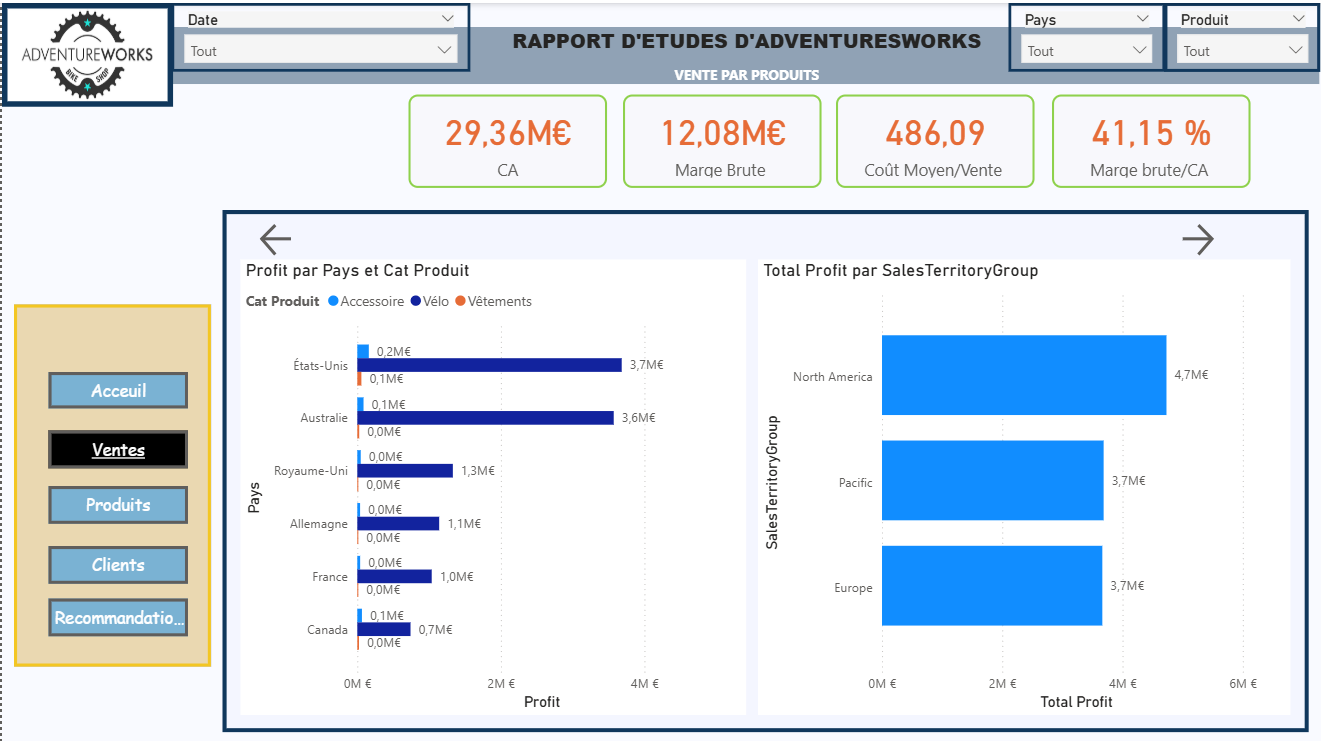

The dashboard page shown, as its layout file describes it:
{"tool":"powerbi","page":{"name":"Ventes","canvas":[1280,720],"ordinal":3},"visuals":[{"type":"image","box":[0,0,165.9,100.4],"z":0},{"type":"shape","box":[213.7,200.8,1054.1,506.8],"z":1000},{"type":"textbox","title":"RAPPORT D''ETUDES D''ADVENTURESWORKS ","box":[165.9,23.3,1113.5,55.3],"z":2000},{"type":"shape","box":[11.3,293.1,191.1,351.4],"z":2000,"group":"g1"},{"type":"slicer","fields":{"Values":["DimGeography.City"]},"box":[1128.6,0,152.2,66.4],"z":3000},{"type":"slicer","fields":{"Values":["DimGeography.FrenchCountryRegionName"]},"box":[976.4,0,152.2,66.4],"z":4000},{"type":"actionButton","box":[44.1,415.6,135.4,36.7],"z":4000,"group":"g1"},{"type":"slicer","fields":{"Values":["DimProduct.FrenchProductName"]},"box":[1127.8,0,152.2,66.4],"z":5000},{"type":"actionButton","box":[44.1,358.4,135.4,35.4],"z":5000,"group":"g1"},{"type":"slicer","fields":{"Values":["DimDate.FullDateAlternateKey.Variation.Hiérarchie de dates.Année"]},"box":[165.2,0,289.8,66.4],"z":6000},{"type":"actionButton","box":[44.1,468.7,135.4,36.7],"z":6000,"group":"g1"},{"type":"card","fields":{"Values":["FactInternetSales._Sales Amount"]},"box":[395.1,89.1,192.7,90.7],"z":7000},{"type":"actionButton","box":[44.1,527.2,135.4,36.7],"z":7000,"group":"g1"},{"type":"card","fields":{"Values":["FactInternetSales._Total Profit"]},"box":[602.4,89.1,192.7,90.7],"z":8000},{"type":"actionButton","box":[44.1,578.9,135.4,36.7],"z":8000,"group":"g1"},{"type":"card","fields":{"Values":["FactInternetSales._ProfitMargin%"]},"box":[1018.5,89.1,192.7,90.7],"z":9000},{"type":"card","fields":{"Values":["FactInternetSales._Mnt/trsx"]},"box":[809.6,89.1,192.7,90.7],"z":10000},{"type":"clusteredBarChart","fields":{"Category":["DimGeography.FrenchCountryRegionName"],"Y":["FactInternetSales._Total Profit"],"Series":["DimProductCategory.FrenchProductCategoryName"]},"box":[231.5,249.4,490.6,442],"z":11000},{"type":"clusteredBarChart","fields":{"Category":["DimSalesTerritory.SalesTerritoryGroup"],"Y":["FactInternetSales._Total Profit"]},"box":[733.5,249.4,516.5,442],"z":12000},{"type":"group","id":"g1","title":"Groupe 1","box":[11.3,293.1,191.1,351.4],"z":13000},{"type":"actionButton","box":[1139.9,208.9,87.4,40.5],"z":14000},{"type":"actionButton","box":[246.1,208.9,100.4,40.5],"z":15000}]}

Visuals, with their boxes in screenshot pixels (x1, y1, x2, y2), scaled from the page's 1280x720 canvas onto the 1321x741 screenshot:
image: 0/0/171/103
shape: 221/207/1308/728
"RAPPORT D''ETUDES D''ADVENTURESWORKS " textbox: 171/24/1320/81
shape: 12/302/209/663
slicer - DimGeography.City: 1165/0/1320/68
slicer - DimGeography.FrenchCountryRegionName: 1008/0/1165/68
actionButton: 46/428/185/465
slicer - DimProduct.FrenchProductName: 1164/0/1320/68
actionButton: 46/369/185/405
slicer - DimDate.FullDateAlternateKey.Variation.Hiérarchie de dates.Année: 170/0/470/68
actionButton: 46/482/185/520
card - FactInternetSales._Sales Amount: 408/92/607/185
actionButton: 46/543/185/580
card - FactInternetSales._Total Profit: 622/92/821/185
actionButton: 46/596/185/634
card - FactInternetSales._ProfitMargin%: 1051/92/1250/185
card - FactInternetSales._Mnt/trsx: 836/92/1034/185
clusteredBarChart - DimGeography.FrenchCountryRegionName x FactInternetSales._Total Profit: 239/257/745/712
clusteredBarChart - DimSalesTerritory.SalesTerritoryGroup x FactInternetSales._Total Profit: 757/257/1290/712
"Groupe 1" group: 12/302/209/663
actionButton: 1176/215/1267/257
actionButton: 254/215/358/257
